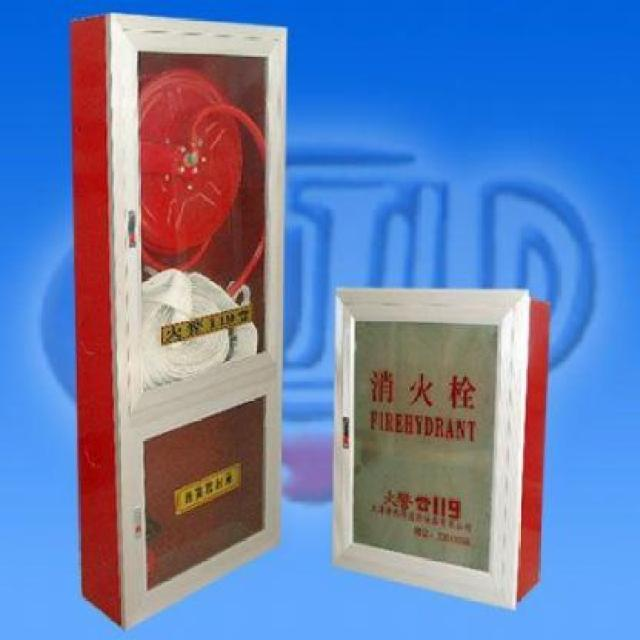firehydrant: (68, 9, 289, 634), (331, 283, 555, 616)
